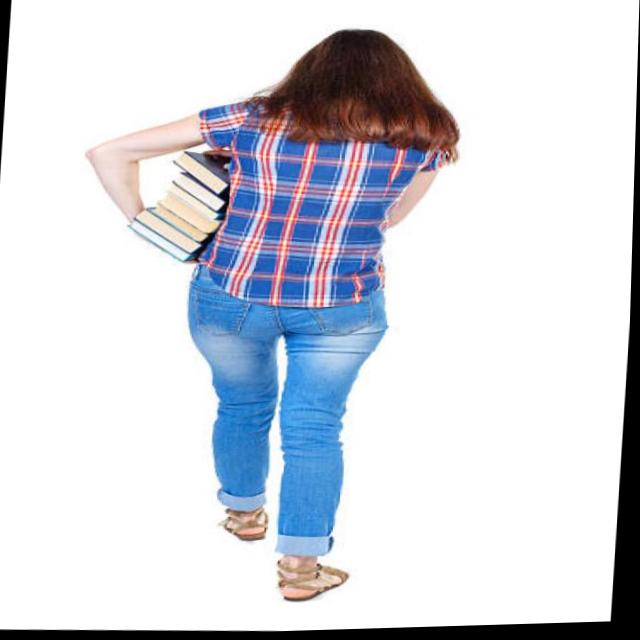no helmet: (292, 27, 427, 114)
